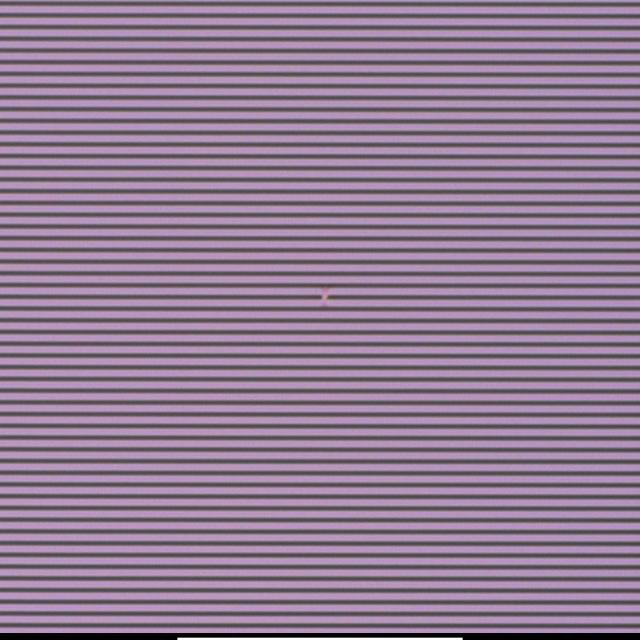03_intrusion: (318, 287, 331, 307)
